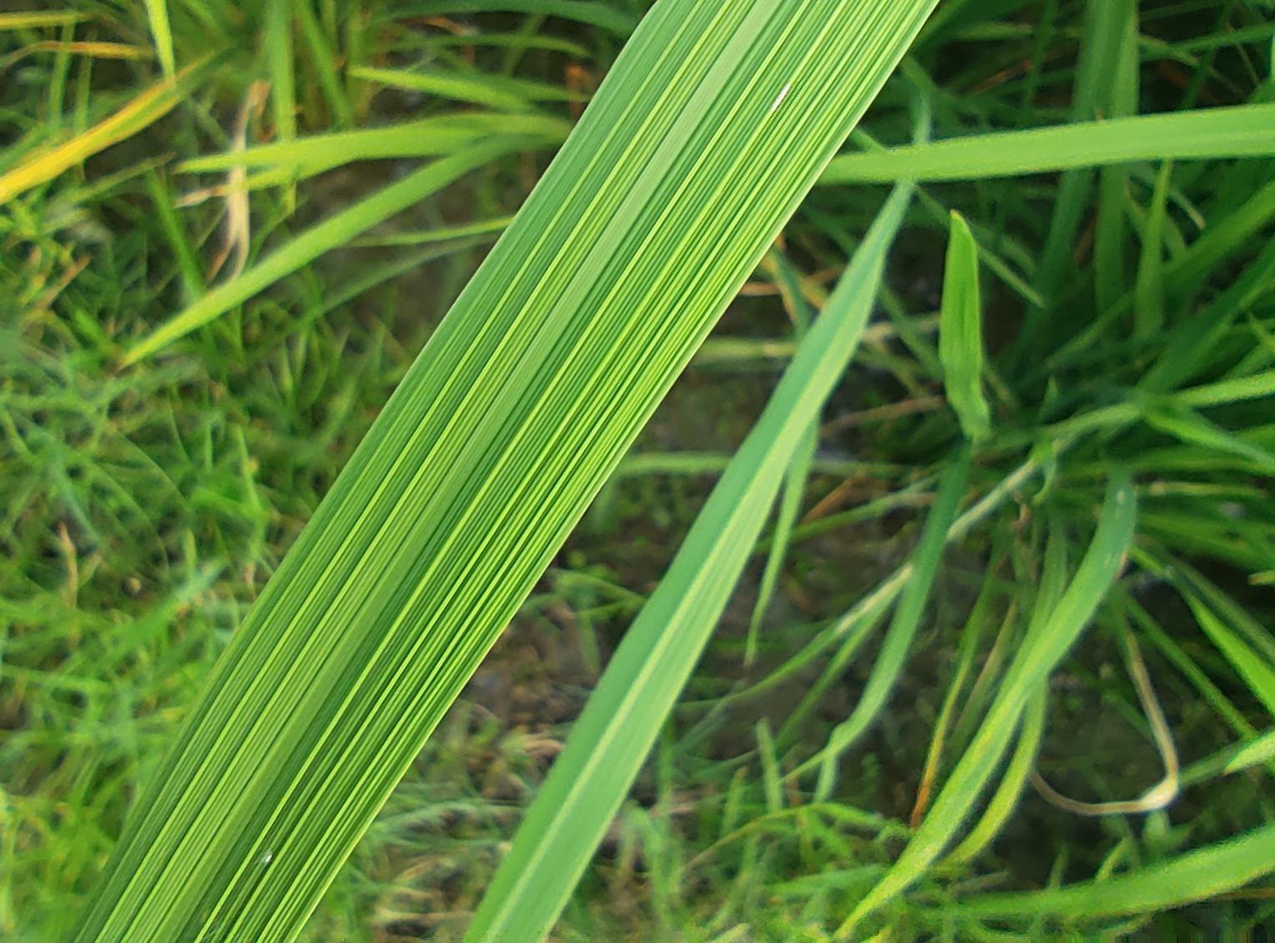Healthy: (69, 0, 935, 942)
